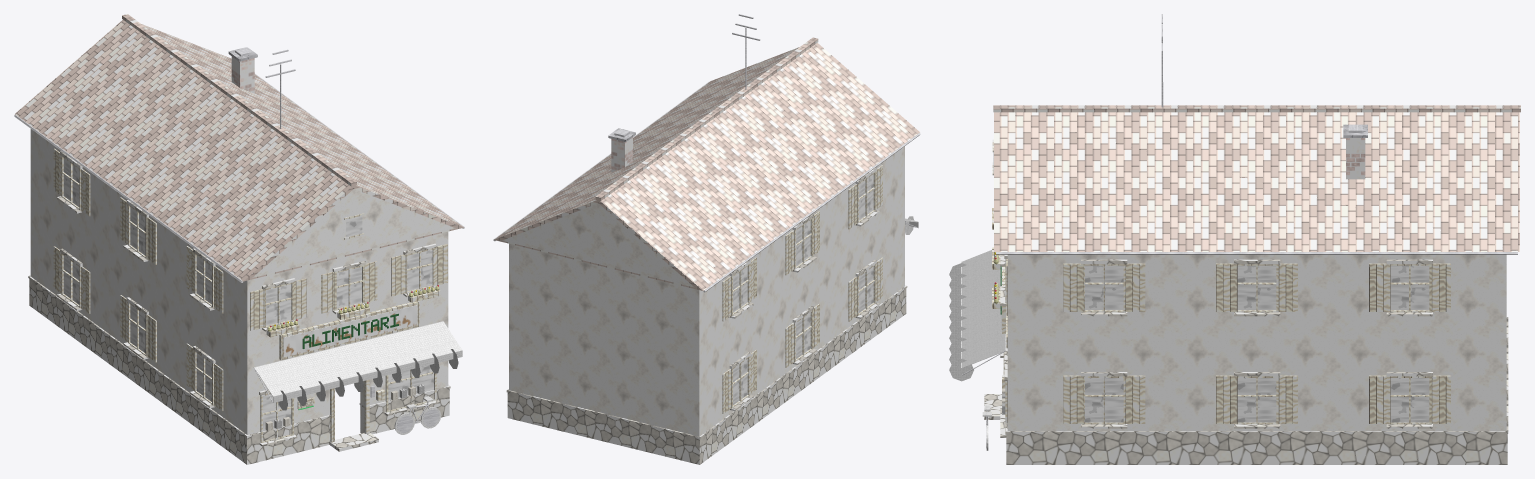
The model's file is bottega.obj.
The picture shows the model from 3 angles, left to right: view 1: azimuth 30°, elevation 25°; view 2: azimuth 150°, elevation 25°; view 3: azimuth 270°, elevation 25°; orthographic projection. The views are drawn at different scales.
Parts seen in each view (by area): view 1: tegole_019, intonaco_000, pietra_001, tessuto_009, tessuto_008, insegna_012, tegole_020, legno_011, metallo_021, legno_048, legno_057, legno_039 (+25 smaller); view 2: intonaco_000, tegole_019, pietra_001, tegole_020, metallo_021, legno_078, legno_070, legno_094, legno_110, legno_102, legno_086, mattone_024 (+6 smaller); view 3: tegole_019, intonaco_000, pietra_001, tegole_020, tessuto_009, tessuto_008, legno_066, legno_074, legno_082, legno_090, legno_098, legno_106 (+14 smaller).
Part boxes in pixels (x1,y1,x2,y2): tegole_019: [15, 20, 463, 281]; intonaco_000: [30, 129, 455, 434]; pietra_001: [28, 275, 450, 464]; tessuto_009: [273, 321, 462, 405]; tessuto_008: [254, 326, 443, 410]; insegna_012: [283, 305, 417, 357]; tegole_020: [122, 14, 356, 186]; legno_011: [279, 301, 419, 360]; metallo_021: [14, 73, 464, 282]; legno_048: [321, 261, 377, 313]; legno_057: [391, 244, 447, 296]; legno_039: [250, 278, 306, 330]; intonaco_000: [502, 146, 904, 436]; tegole_019: [494, 43, 919, 290]; pietra_001: [506, 285, 907, 464]; tegole_020: [595, 37, 818, 200]; metallo_021: [493, 81, 920, 292]; legno_078: [848, 165, 882, 229]; legno_070: [848, 257, 882, 321]; legno_094: [785, 211, 819, 275]; legno_110: [722, 257, 756, 321]; legno_102: [722, 350, 756, 413]; legno_086: [785, 303, 819, 367]; mattone_024: [611, 137, 632, 172]; tegole_019: [994, 112, 1519, 251]; intonaco_000: [1007, 254, 1506, 430]; pietra_001: [1005, 317, 1508, 464]; tegole_020: [993, 105, 1520, 112]; tessuto_009: [949, 260, 1006, 381]; tessuto_008: [949, 250, 1006, 364]; legno_066: [1063, 375, 1145, 423]; legno_074: [1063, 263, 1145, 311]; legno_082: [1216, 375, 1297, 423]; legno_090: [1216, 263, 1297, 311]; legno_098: [1369, 375, 1450, 423]; legno_106: [1369, 263, 1450, 311].
Size of the model in its own units: 7.68 by 11.12 by 14.78.
39 materials, 33 textured.
